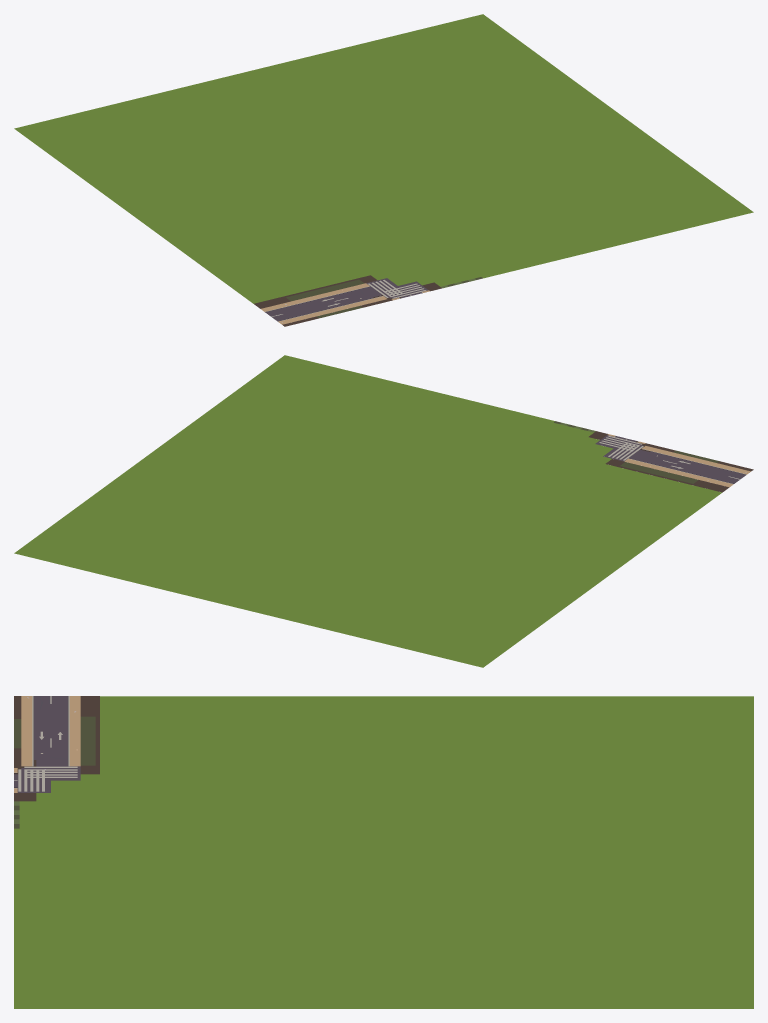
The model's file is cure-20-1.glb.
3 renders of one model, top to bottom at view 1: azimuth 30°, elevation 25°; view 2: azimuth 150°, elevation 25°; view 3: azimuth 270°, elevation 25°, orthographic. The views are drawn at different scales.
Parts seen in each view (by area): view 1: cure-20-1; view 2: cure-20-1; view 3: cure-20-1.
Boxes of the visible parts, box(x1,y1,x2,y2) form: cure-20-1: box(14, 14, 753, 326); cure-20-1: box(14, 355, 753, 667); cure-20-1: box(14, 696, 753, 1008).
Size of the model in its own units: 100 by 0.017 by 100.
